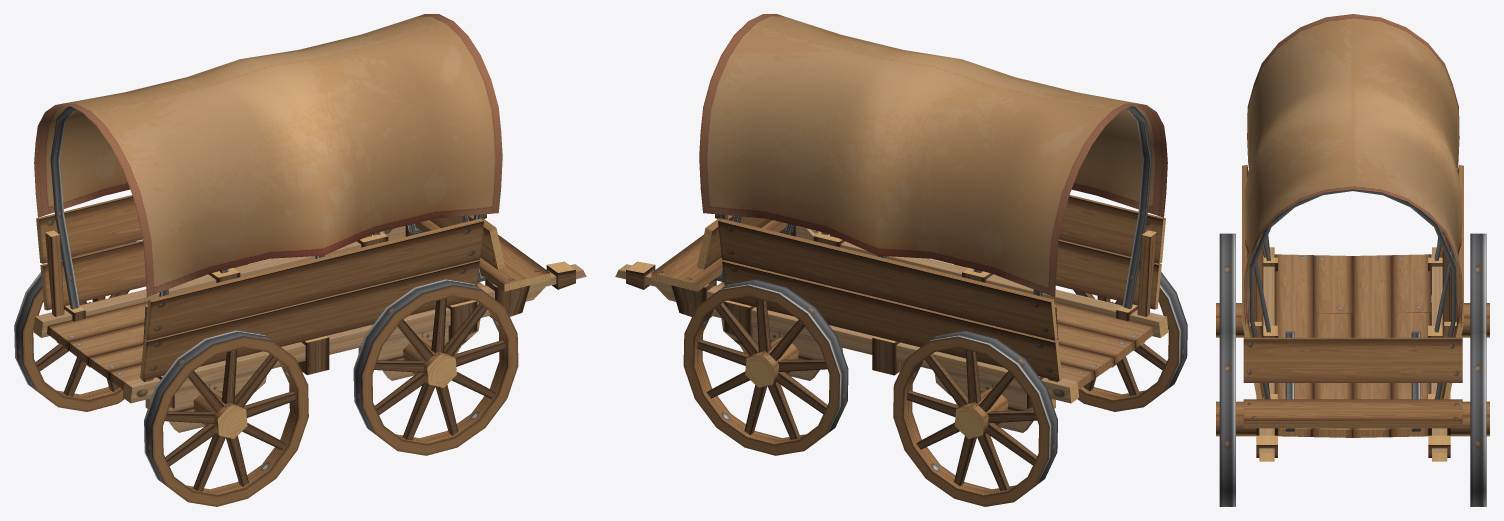
Rendered from Chariot_02.FBX.
3 renders of one model, left to right at view 1: azimuth 30°, elevation 25°; view 2: azimuth 150°, elevation 25°; view 3: azimuth 270°, elevation 25°, orthographic. The views are drawn at different scales.
Visible parts, largest first — view 1: Tarpaulin, Body, Wheel_A, Wheel_B, Hoop; view 2: Tarpaulin, Body, Wheel_A, Wheel_B, Hoop; view 3: Body, Tarpaulin, Wheel_B, Wheel_A, Hoop.
Part boxes in pixels (x1,y1,x2,y2): Tarpaulin: (34, 14, 502, 297); Body: (33, 195, 586, 432); Wheel_A: (14, 241, 308, 506); Wheel_B: (234, 264, 518, 455); Hoop: (50, 106, 483, 309); Tarpaulin: (699, 14, 1167, 297); Body: (615, 195, 1168, 432); Wheel_A: (893, 272, 1187, 506); Wheel_B: (683, 264, 967, 455); Hoop: (719, 106, 1151, 309); Body: (1242, 165, 1463, 461); Tarpaulin: (1244, 14, 1462, 326); Wheel_B: (1216, 332, 1489, 506); Wheel_A: (1216, 233, 1489, 337); Hoop: (1249, 189, 1455, 399).
Size of the model in its own units: 3.92 by 2.96 by 2.11.
